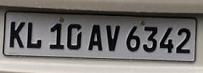0: (65, 22, 81, 49)
1: (48, 21, 64, 49)
2: (174, 25, 190, 54)
3: (141, 24, 157, 52)
4: (158, 25, 174, 52)
6: (125, 24, 140, 52)
A: (87, 23, 102, 51)
K: (7, 19, 25, 48)
L: (25, 19, 42, 49)
V: (104, 24, 121, 51)
